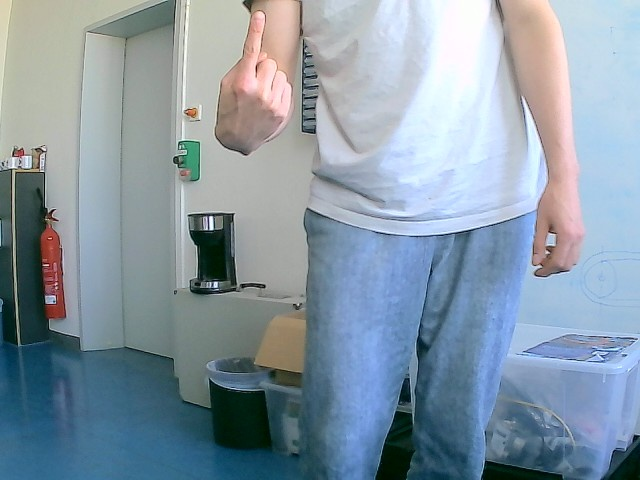6: (213, 10, 294, 156)
no_gesture: (525, 177, 587, 282)
